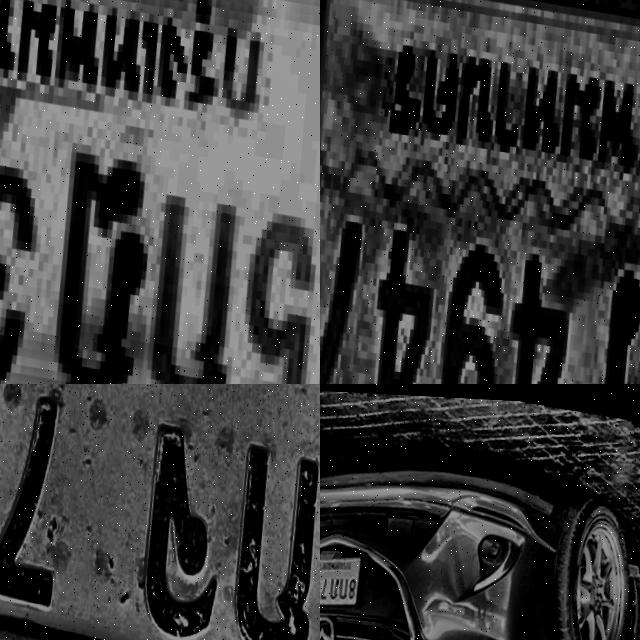license-plate: (0, 0, 320, 384), (320, 0, 640, 384), (0, 384, 320, 640), (320, 532, 367, 620)
